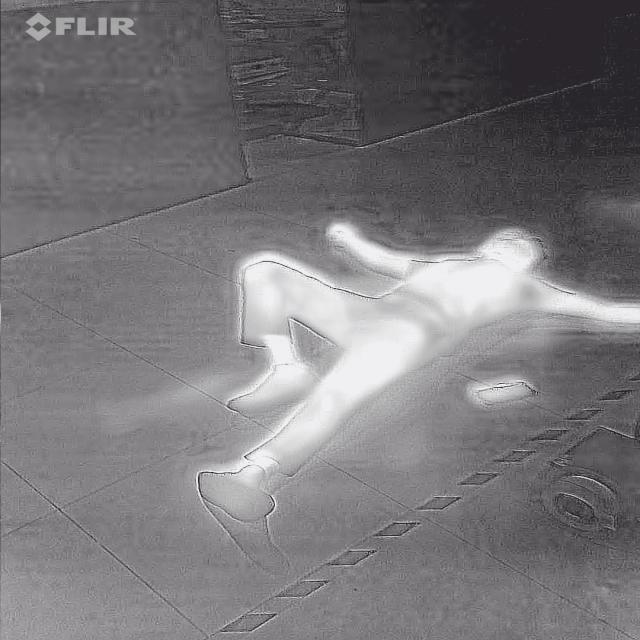Victim: (188, 218, 640, 524)
